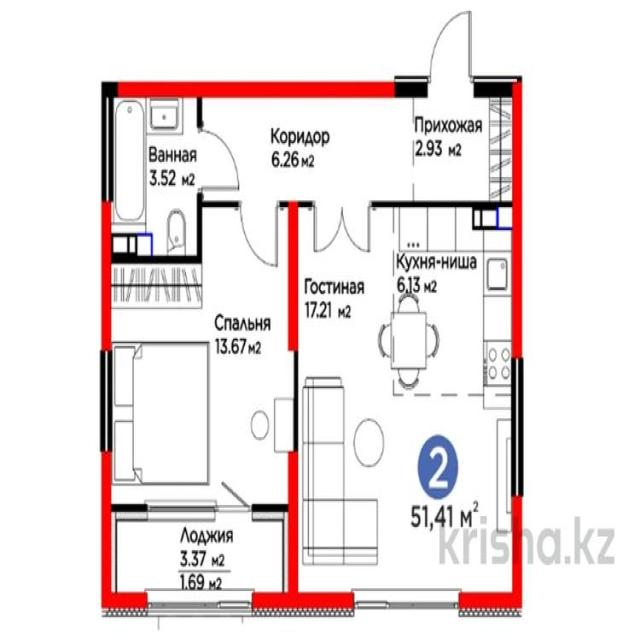balcony: (104, 506, 292, 612)
bathroom: (104, 90, 200, 258)
hallway: (202, 92, 411, 204), (411, 89, 516, 206)
living_room: (103, 262, 294, 512)
studio: (291, 206, 517, 605)
